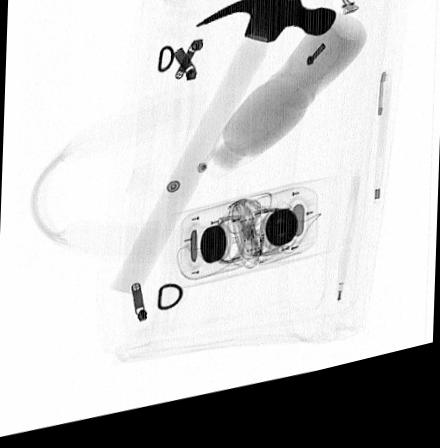Hammer: (107, 7, 336, 301)
